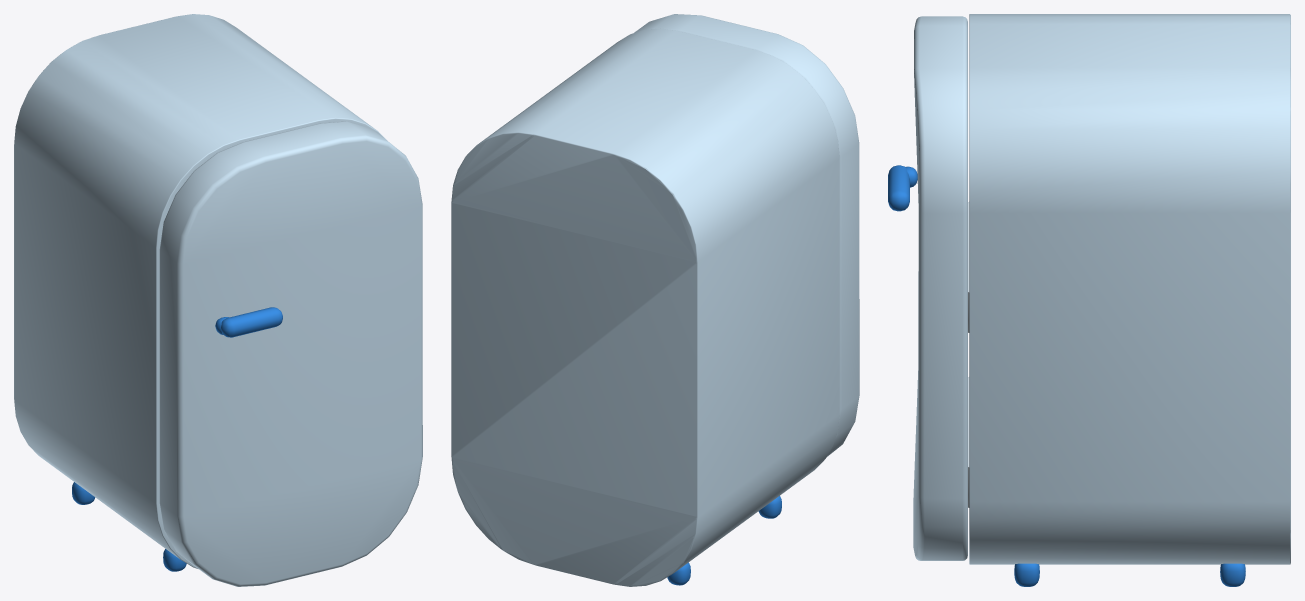
Rendered from frigobar_redondo_azul.glb.
3 views of the same model, side by side, from view 1: azimuth 30°, elevation 25°; view 2: azimuth 150°, elevation 25°; view 3: azimuth 270°, elevation 25° (orthographic). The views are drawn at different scales.
Visible parts, largest first — view 1: porta, frigobar_redondo_azul; view 2: frigobar_redondo_azul, porta; view 3: frigobar_redondo_azul, porta.
Boxes of the visible parts, box(x1,y1,x2,y2) form: porta: box(159, 121, 422, 586); frigobar_redondo_azul: box(14, 14, 387, 571); frigobar_redondo_azul: box(451, 28, 839, 586); porta: box(634, 14, 859, 457); frigobar_redondo_azul: box(969, 14, 1290, 586); porta: box(888, 16, 969, 560).
Size of the model in its own units: 0.5 by 0.85 by 0.626.
1 material, 1 textured.
